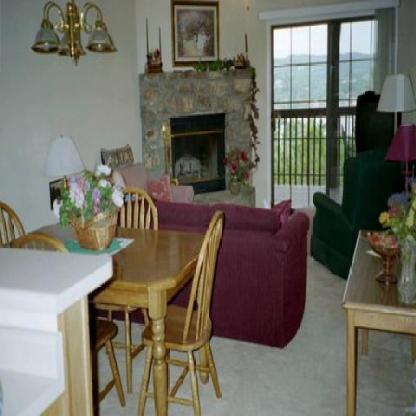chair: (10, 232, 126, 414), (138, 209, 226, 415), (310, 149, 413, 281), (96, 191, 160, 394), (0, 199, 25, 249)
diningtable: (1, 222, 213, 415)
sofa: (116, 196, 310, 350), (120, 163, 195, 204)
